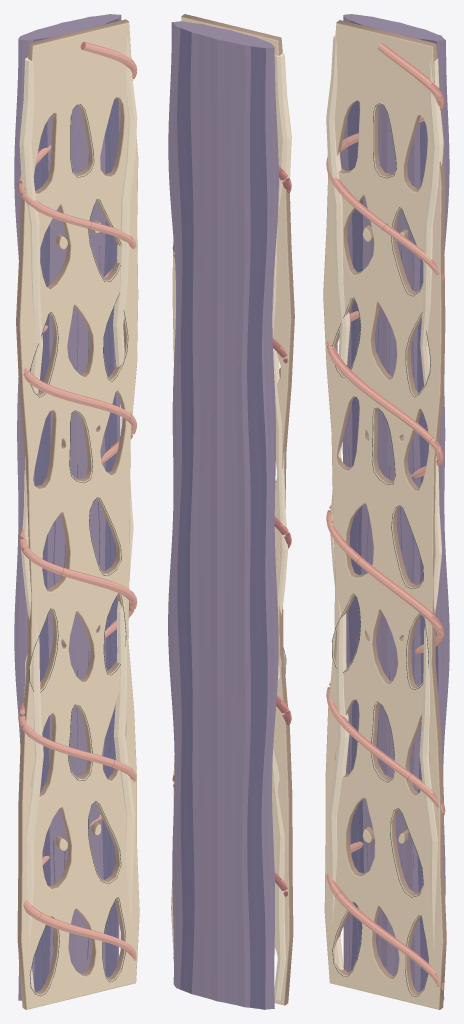
Rendered from tower-spine-v3.glb.
3 views of the same model, side by side, from view 1: azimuth 30°, elevation 25°; view 2: azimuth 150°, elevation 25°; view 3: azimuth 330°, elevation 25° (orthographic).
Parts seen in each view (by area): view 1: TG03_SPINE_V3; view 2: TG03_SPINE_V3; view 3: TG03_SPINE_V3.
Part boxes in pixels (box(x1,y1,x2,y2)): TG03_SPINE_V3: box(14, 14, 139, 1009); TG03_SPINE_V3: box(168, 14, 294, 1009); TG03_SPINE_V3: box(323, 14, 449, 1009).
Size of the model in its own units: 5.97 by 45.61 by 2.
